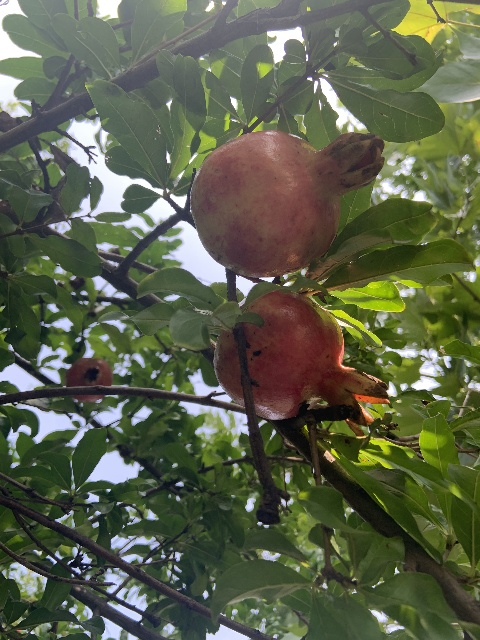ripe: (189, 129, 385, 278), (212, 290, 388, 426), (64, 356, 112, 402)
